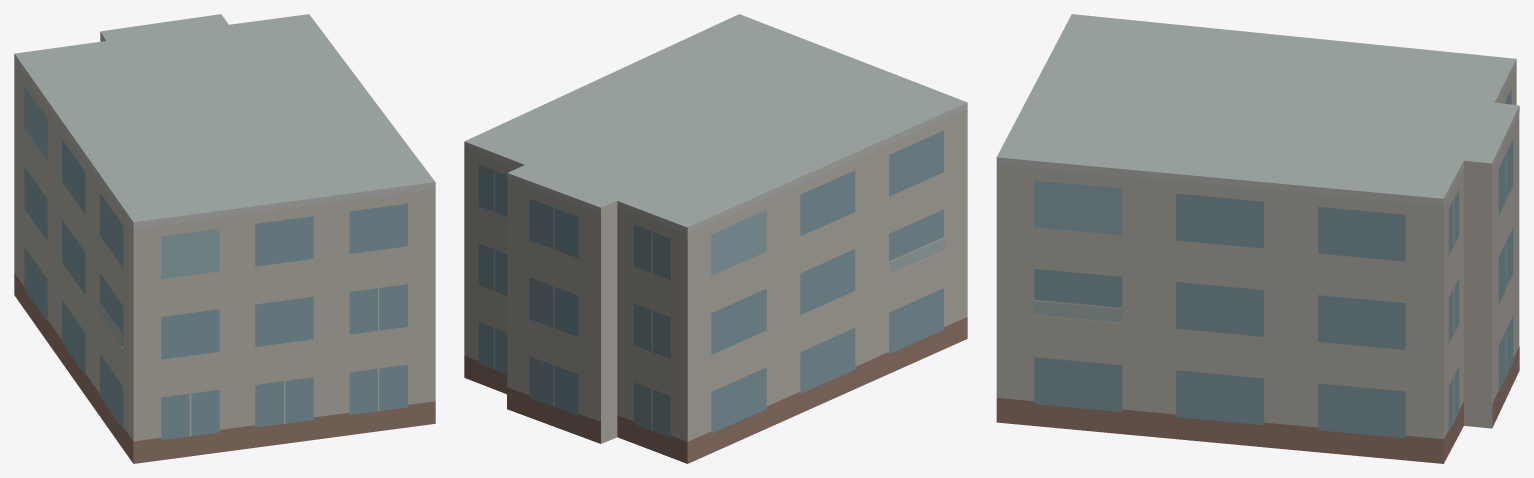
Rendered from survey-upis-32997630.glb.
3 renders of one model, left to right at view 1: azimuth 30°, elevation 25°; view 2: azimuth 150°, elevation 25°; view 3: azimuth 270°, elevation 25°, orthographic. The views are drawn at different scales.
Visible parts, largest first — view 1: survey-upis-32997630.tmp; view 2: survey-upis-32997630.tmp; view 3: survey-upis-32997630.tmp.
Boxes of the visible parts, box(x1,y1,x2,y2) form: survey-upis-32997630.tmp: box(14, 14, 435, 463); survey-upis-32997630.tmp: box(464, 14, 967, 463); survey-upis-32997630.tmp: box(996, 14, 1519, 463).
Size of the model in its own units: 13.69 by 9.15 by 16.37.
